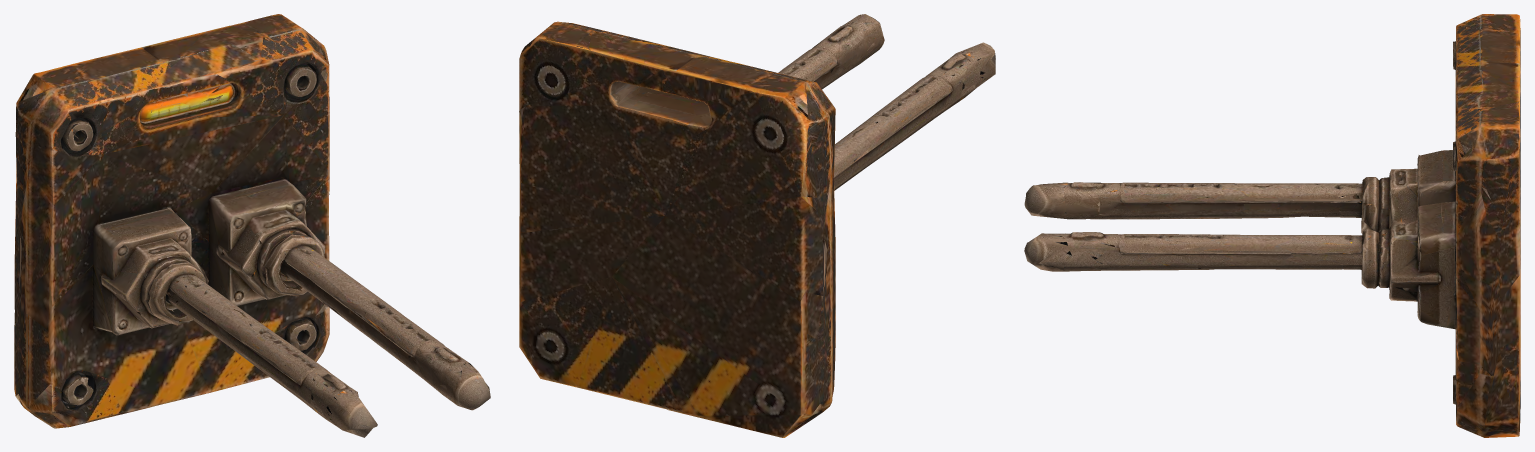
Rendered from switch_panel.glb.
The picture shows the model from 3 angles, left to right: view 1: azimuth 30°, elevation 25°; view 2: azimuth 150°, elevation 25°; view 3: azimuth 270°, elevation 25°; orthographic projection. The views are drawn at different scales.
Visible parts, largest first — view 1: Body, ToggleR, ToggleL; view 2: Body, ToggleL, ToggleR; view 3: Body, ToggleR, ToggleL.
Boxes of the visible parts, left/top/right/bottom form: Body: left=14, top=14, right=329, bottom=428; ToggleR: left=273, top=242, right=490, bottom=410; ToggleL: left=162, top=269, right=377, bottom=437; Body: left=519, top=21, right=835, bottom=437; ToggleL: left=834, top=42, right=995, bottom=190; ToggleR: left=778, top=14, right=884, bottom=89; Body: left=1337, top=14, right=1520, bottom=437; ToggleR: left=1024, top=232, right=1363, bottom=280; ToggleL: left=1024, top=180, right=1365, bottom=232.
Bounding box in the file's own units: 1.22 × 1.33 × 1.9.
Materials: 1 (1 with a texture image).
